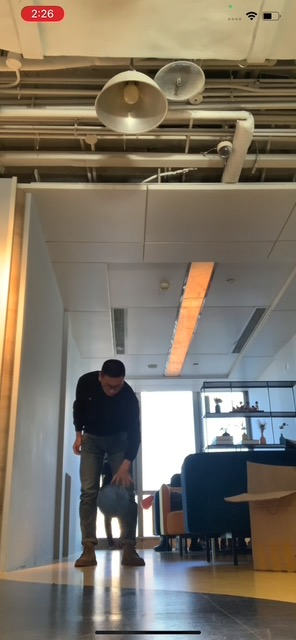ball: (96, 485, 131, 518)
